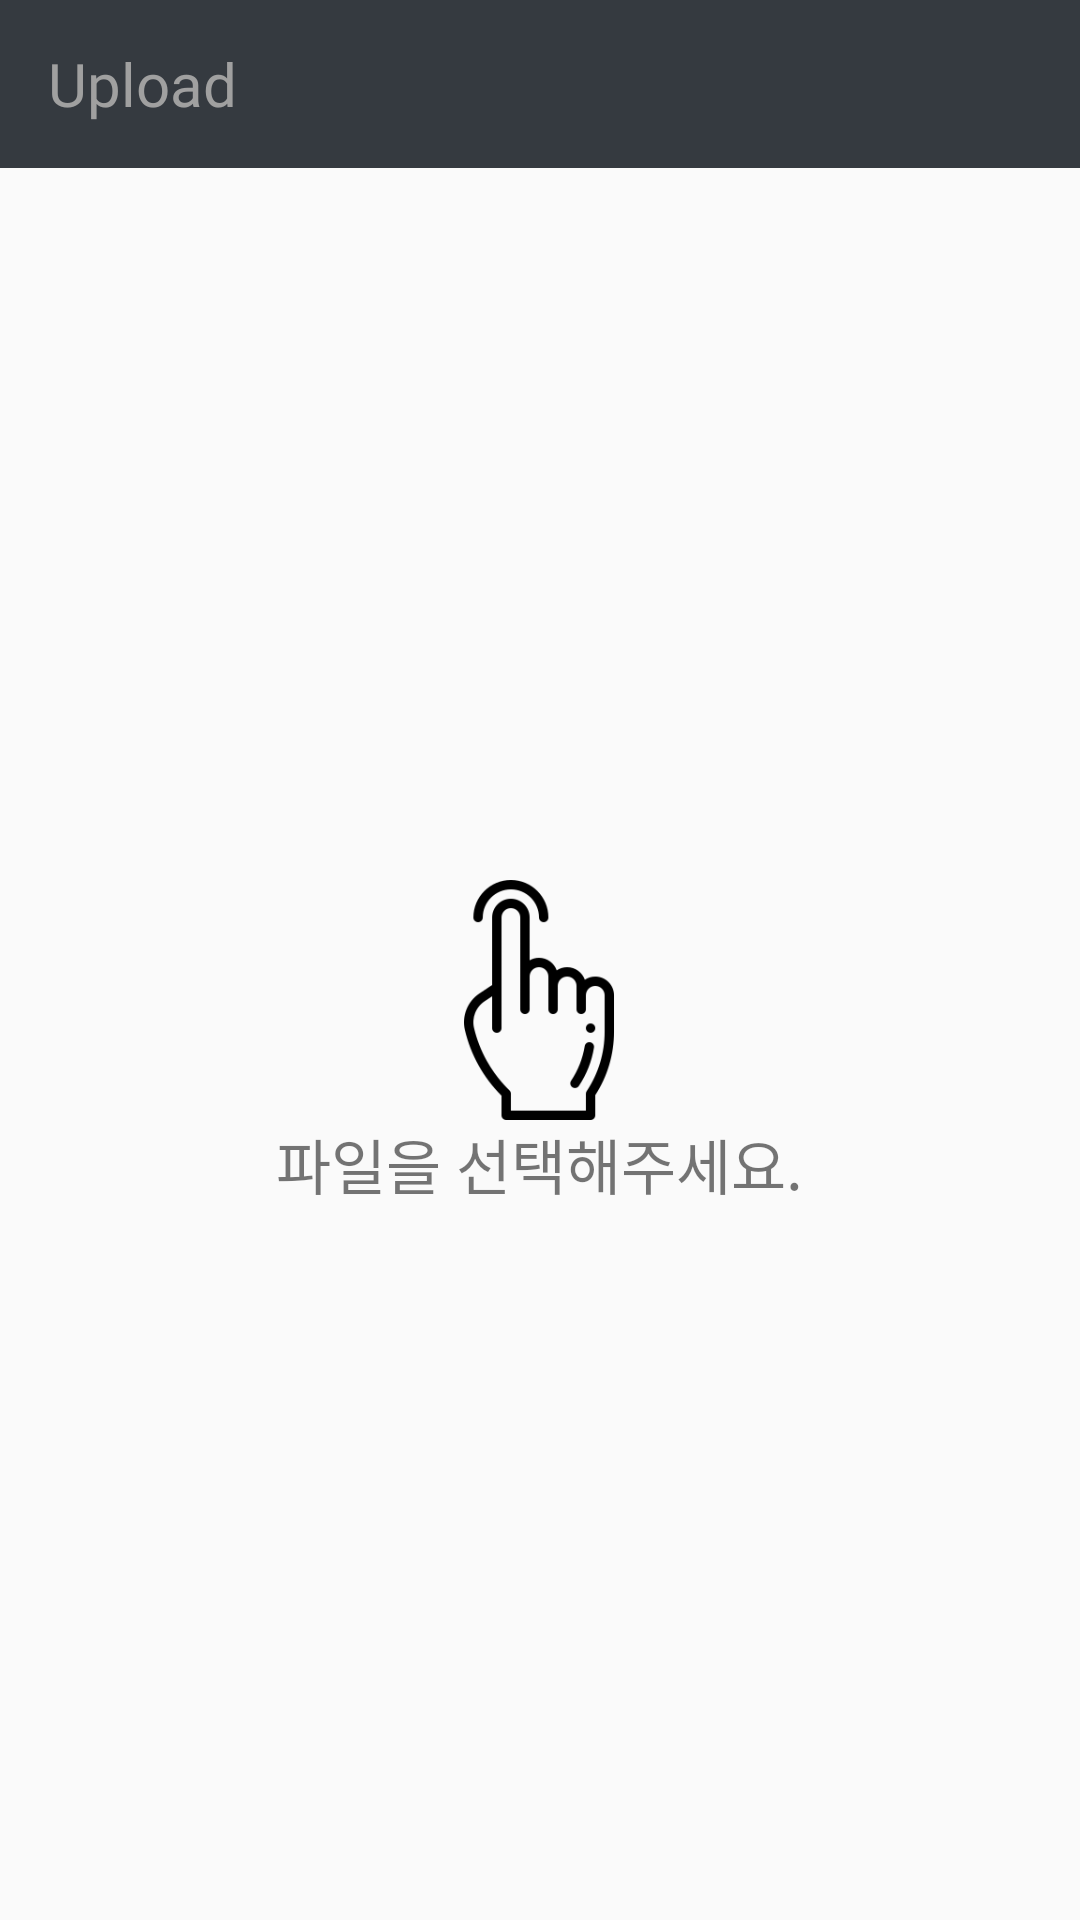

Where to tap for icons on this 1080 x 1920 app screen, as (x,y):
clickicon: (539,1000)
